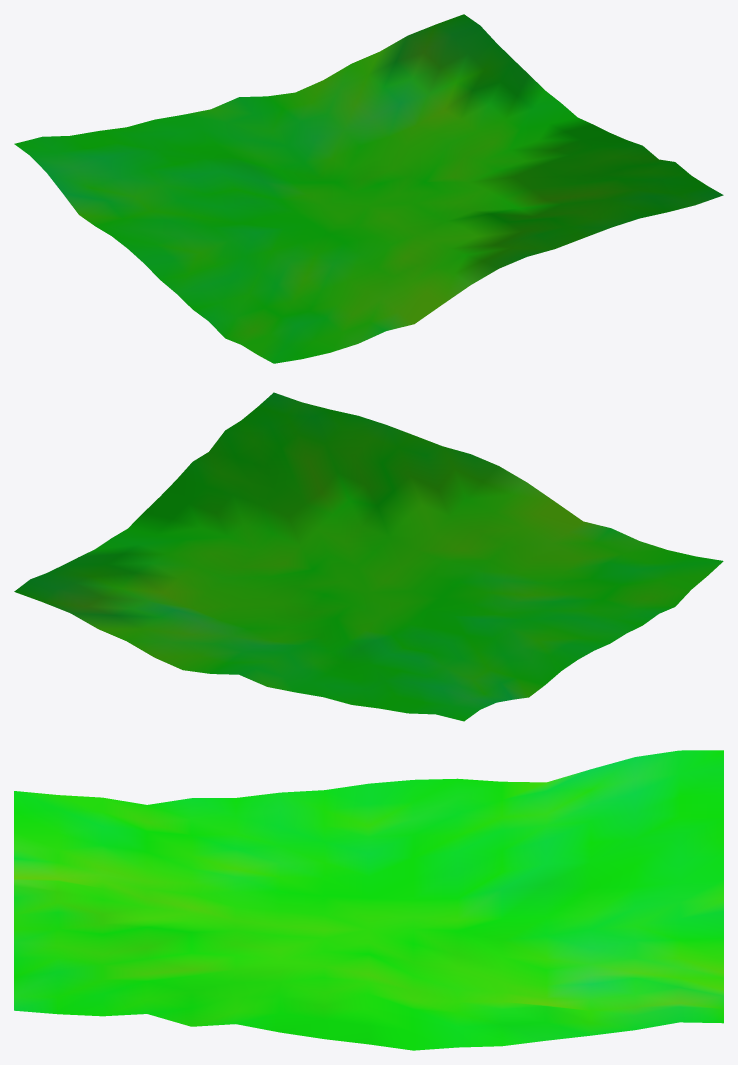
File: lkol1.dae
3 renders of one model, top to bottom at view 1: azimuth 30°, elevation 25°; view 2: azimuth 150°, elevation 25°; view 3: azimuth 270°, elevation 25°, orthographic. The views are drawn at different scales.
Visible parts, largest first — view 1: Terrain; view 2: Terrain; view 3: Terrain.
Part boxes in pixels (left/top/right/bottom): Terrain: left=14, top=14, right=723, bottom=363; Terrain: left=14, top=392, right=723, bottom=721; Terrain: left=14, top=750, right=723, bottom=1050.
Size of the model in its own units: 64 by 9.49 by 64.
